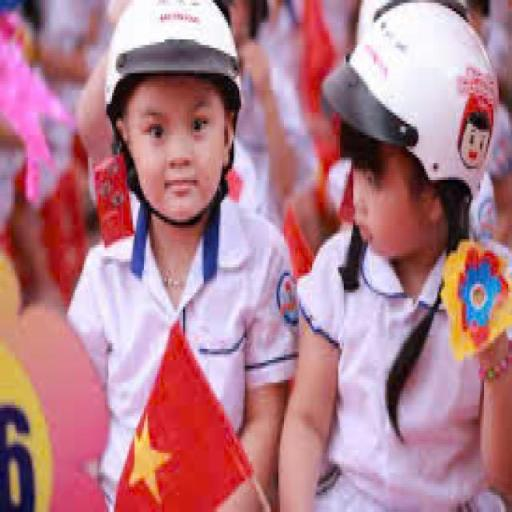with helmet: (326, 0, 499, 198), (96, 0, 252, 111)
